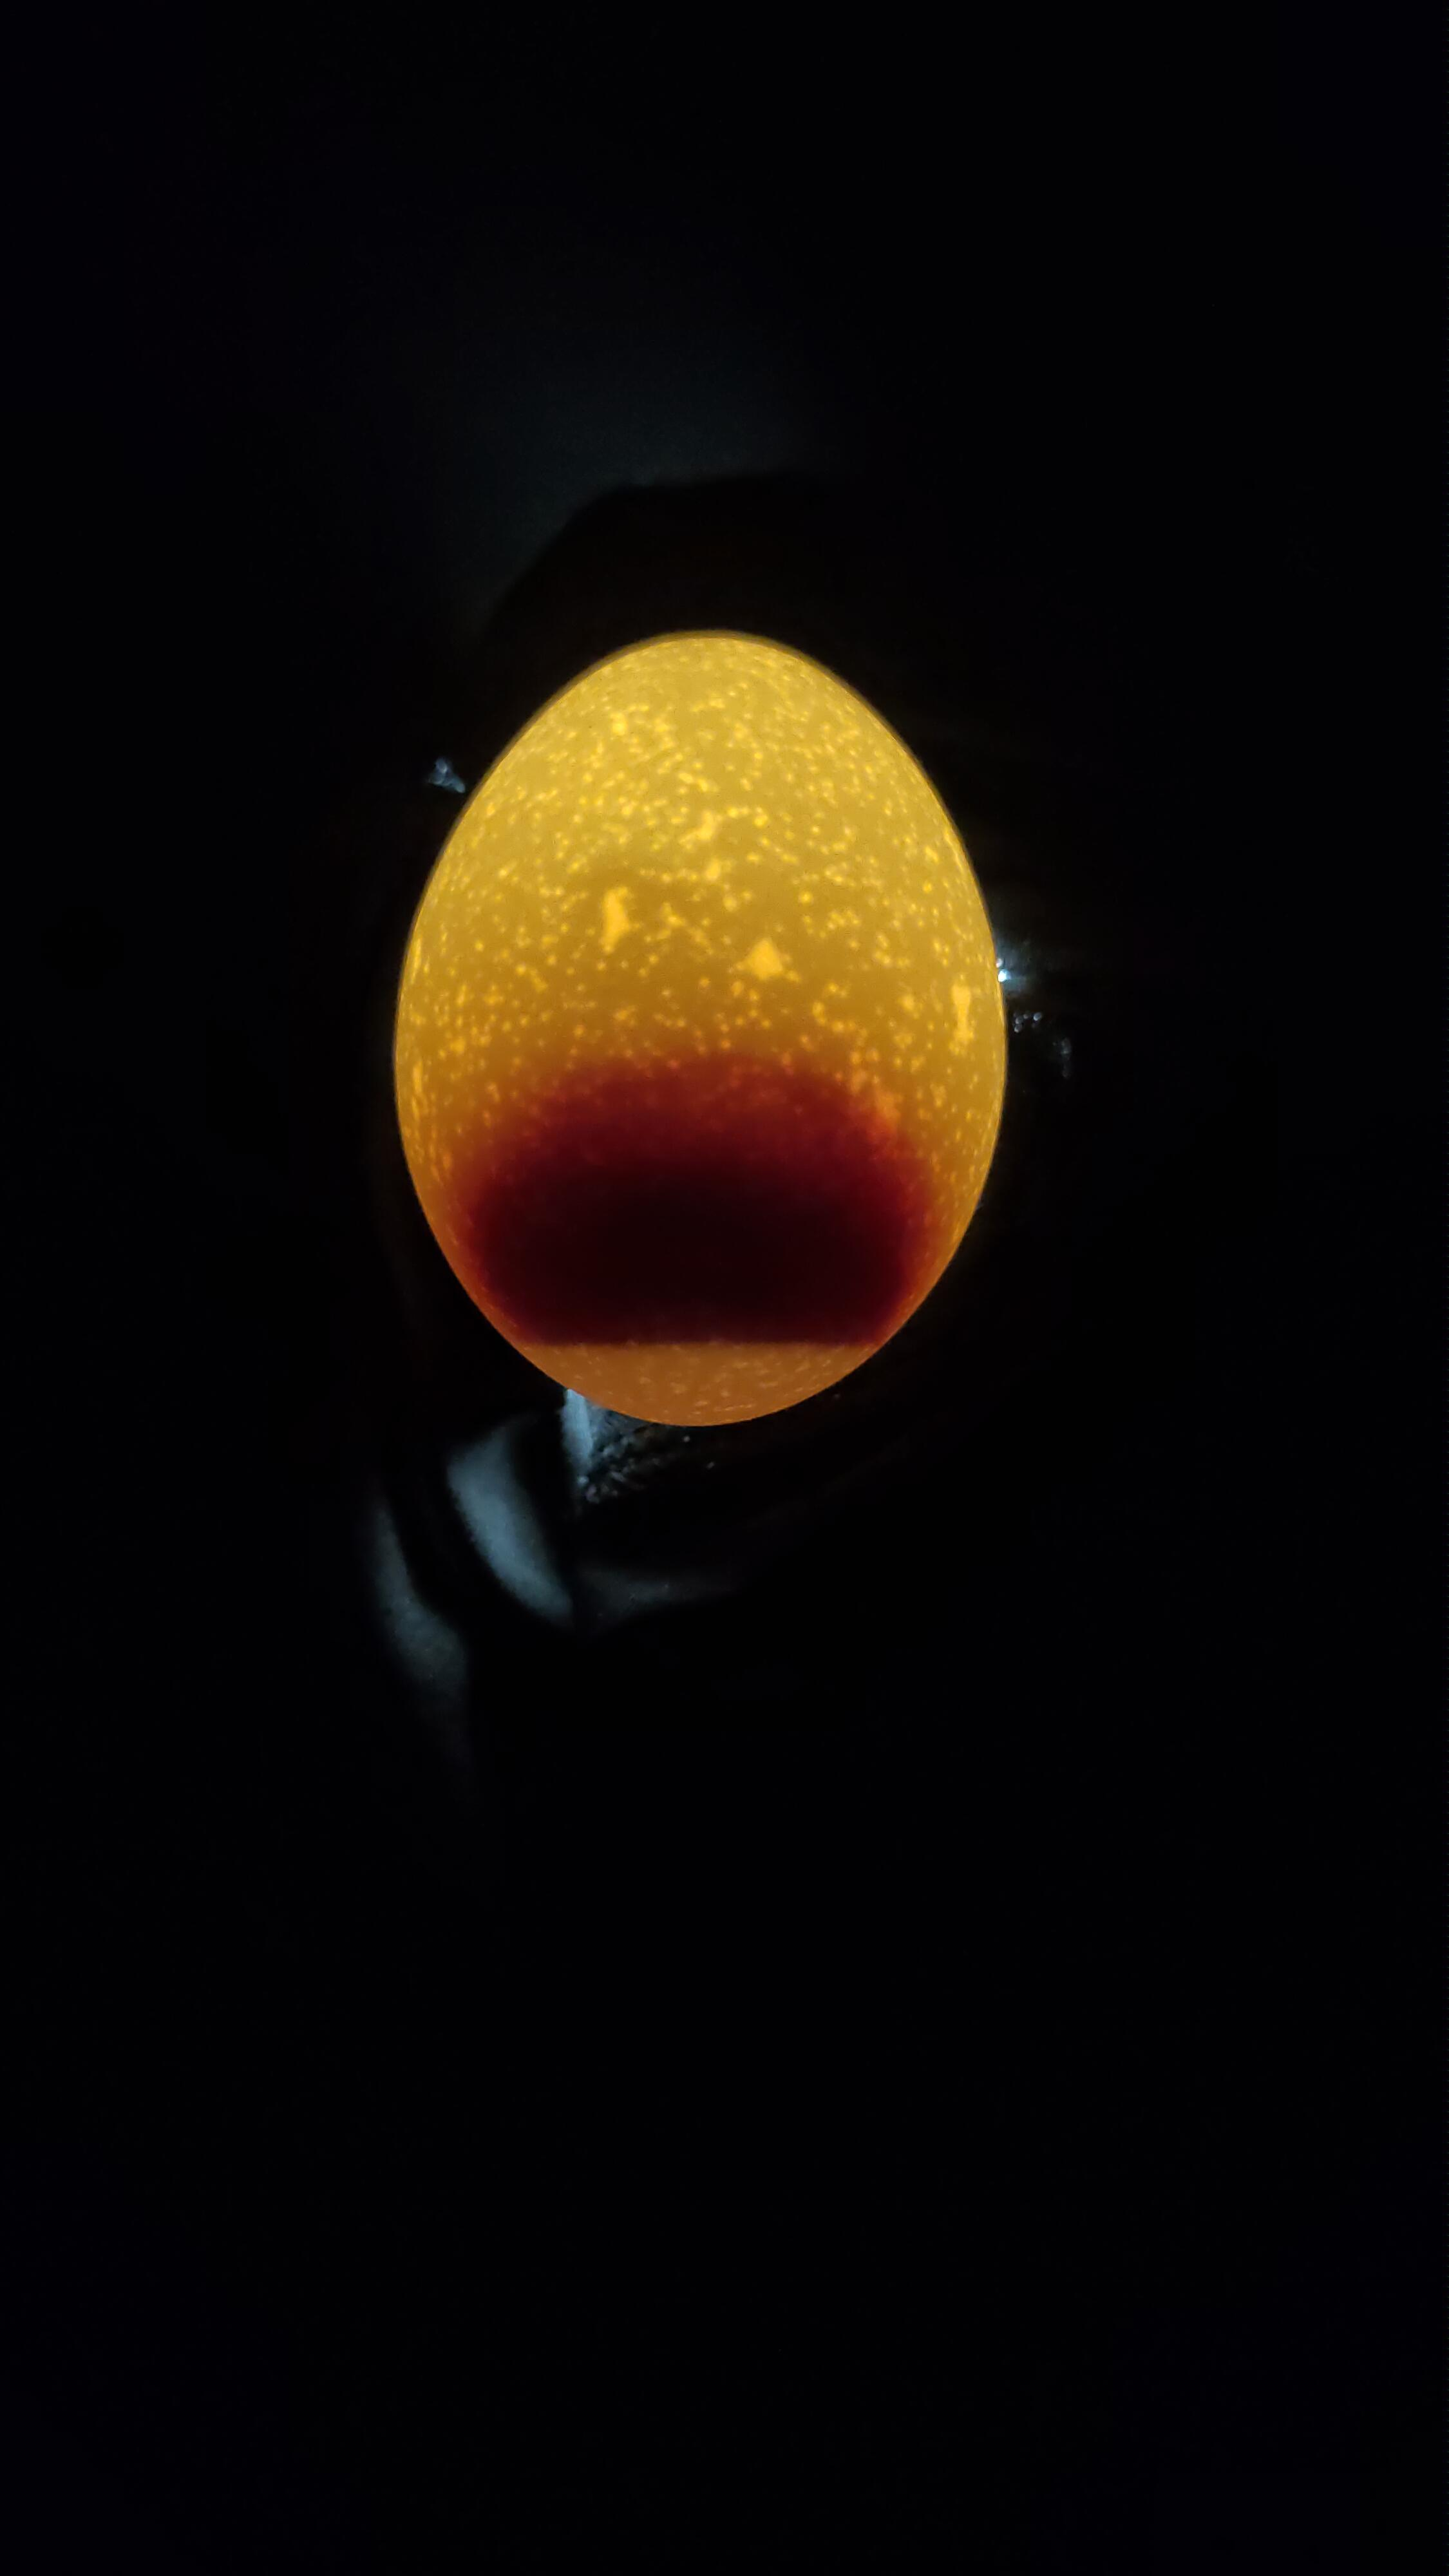AA - Premium: (361, 580, 1100, 1468)
